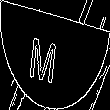M_N: (39, 26, 71, 84)
